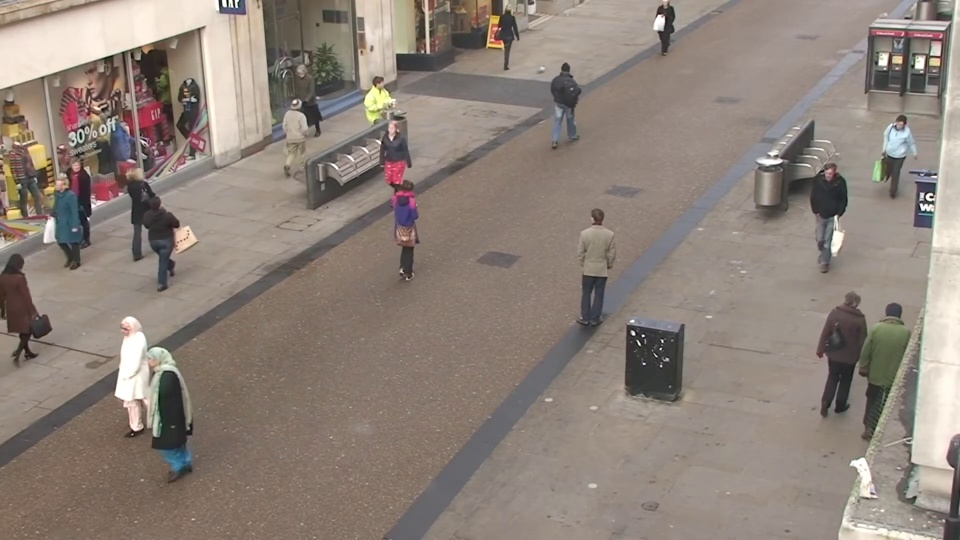pedestrian: (123, 342, 186, 494), (94, 309, 155, 454), (865, 289, 924, 433), (0, 242, 63, 369), (825, 278, 879, 418), (34, 178, 87, 287), (143, 185, 189, 296), (52, 156, 101, 260), (801, 163, 843, 272), (131, 158, 175, 262), (578, 203, 616, 323), (395, 172, 434, 283), (874, 114, 918, 212), (371, 121, 405, 218), (287, 90, 320, 178), (851, 15, 885, 88), (283, 65, 314, 145), (368, 72, 398, 154), (558, 55, 584, 134), (499, 3, 522, 67)
